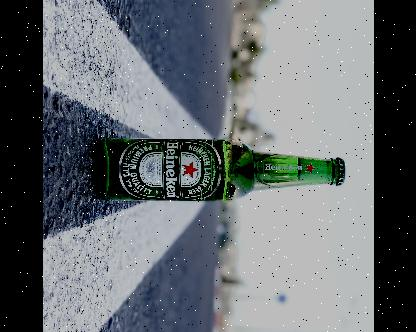Others: (91, 138, 345, 202)
